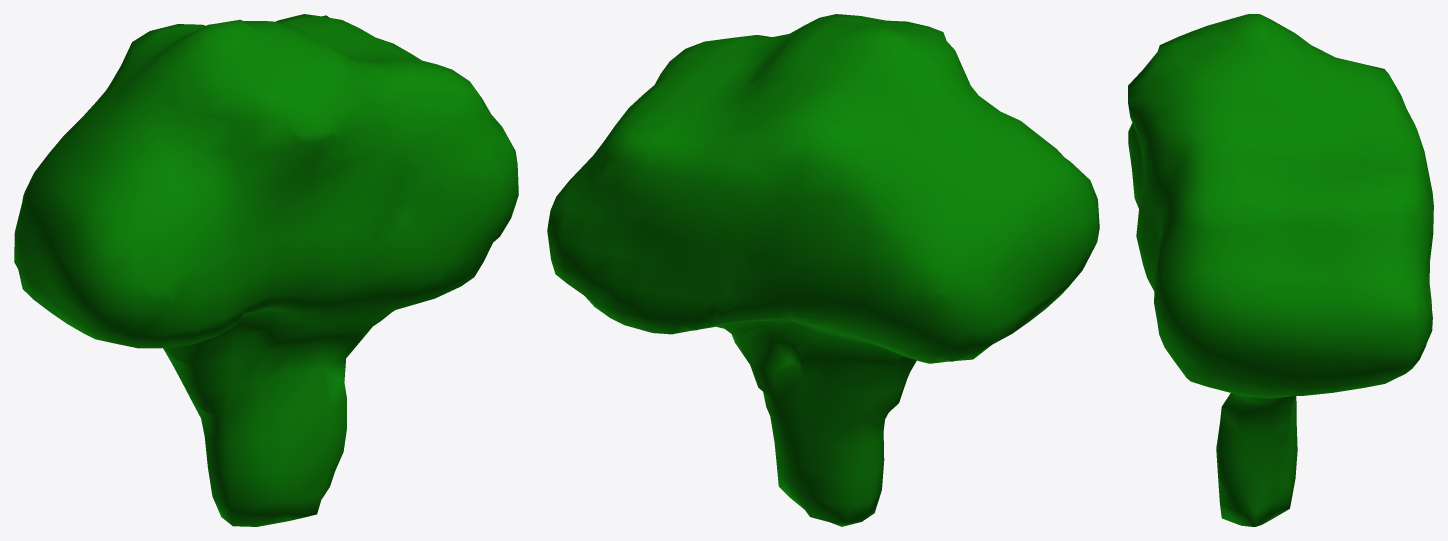
Rendered from brocoli.glb.
The picture shows the model from 3 angles, left to right: view 1: azimuth 30°, elevation 25°; view 2: azimuth 150°, elevation 25°; view 3: azimuth 270°, elevation 25°; orthographic projection. The views are drawn at different scales.
Parts seen in each view (by area): view 1: 花椰菜.001; view 2: 花椰菜.001; view 3: 花椰菜.001.
Part boxes in pixels (x1,y1,x2,y2): 花椰菜.001: (14, 14, 518, 526); 花椰菜.001: (547, 14, 1099, 526); 花椰菜.001: (1128, 14, 1433, 526).
Bounding box in the file's own units: 1.01 × 1.07 × 0.6239.
